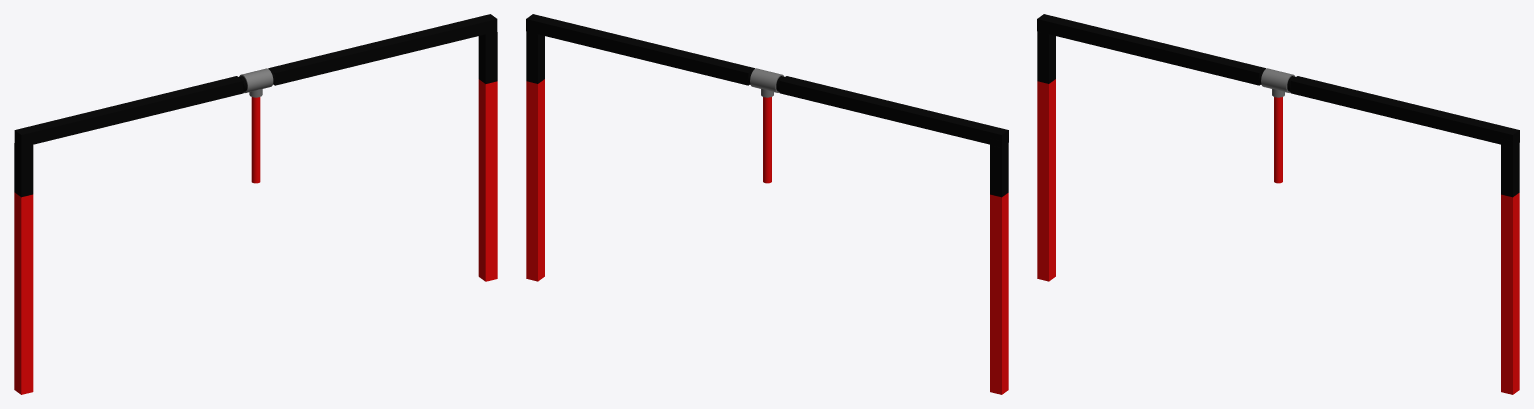
Rendered from qual_gate.dae.
3 views of the same model, side by side, from view 1: azimuth 30°, elevation 25°; view 2: azimuth 150°, elevation 25°; view 3: azimuth 330°, elevation 25° (orthographic).
Visible parts, largest first — view 1: qual_gate; view 2: qual_gate; view 3: qual_gate.
Part boxes in pixels (x1,y1,x2,y2): qual_gate: [14, 14, 497, 394]; qual_gate: [526, 14, 1008, 394]; qual_gate: [1037, 14, 1519, 394].
Bounding box in the file's own units: 3.07 × 0.1062 × 1.62.
